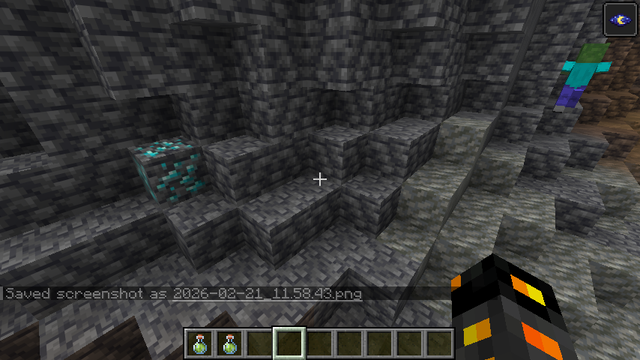diamond: (129, 134, 214, 202)
